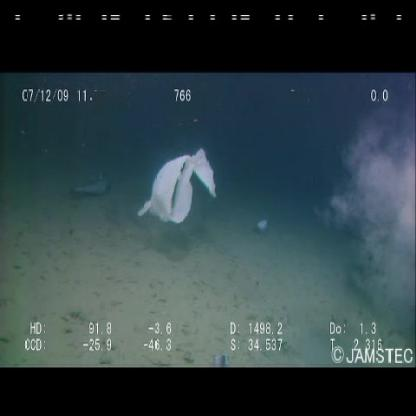Rác: (130, 142, 221, 231)
